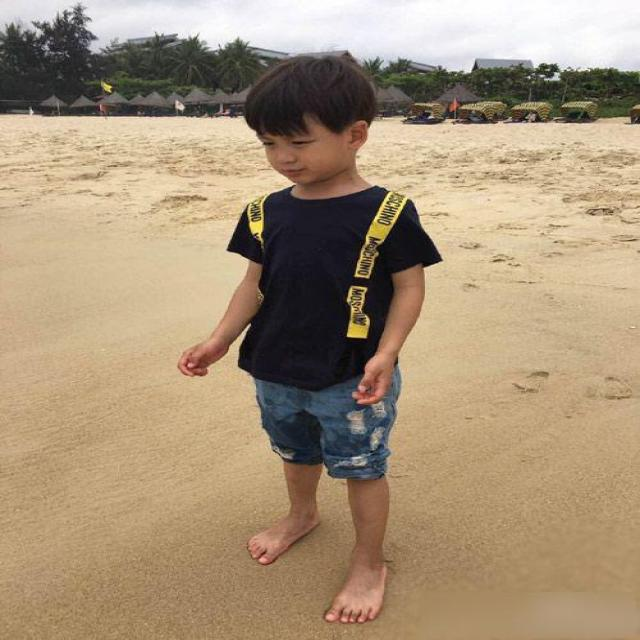Manusia: (169, 45, 449, 640)
